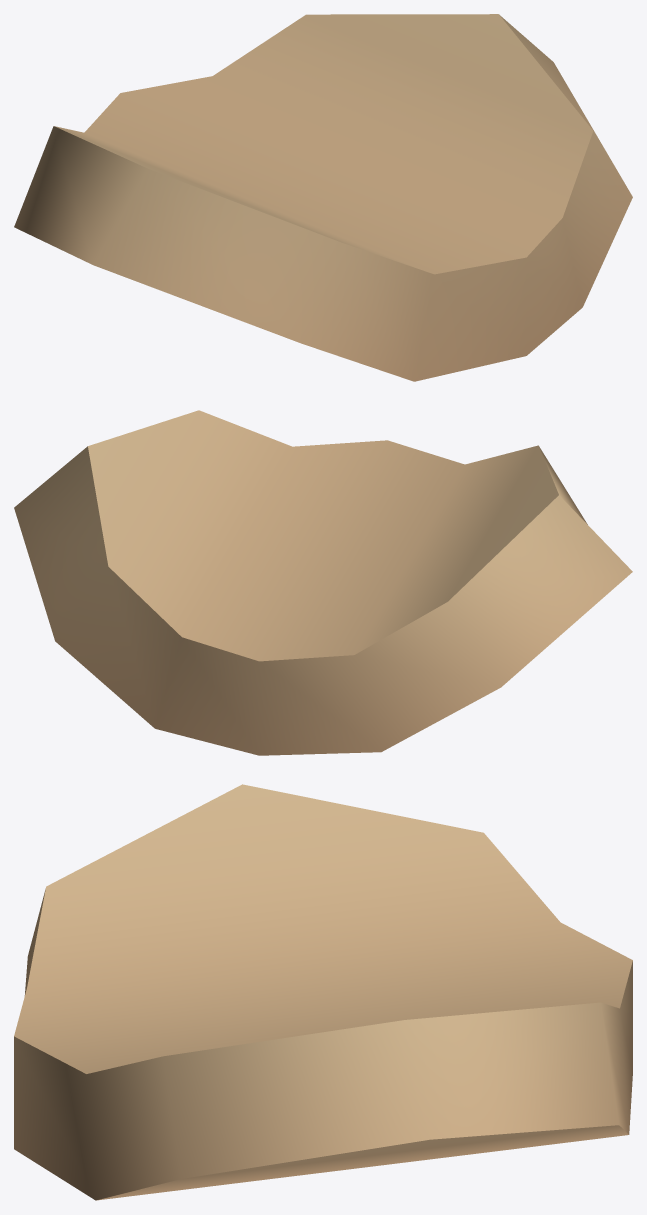
The model's file is (%no-merge) 3.glb.
The picture shows the model from 3 angles, top to bottom: view 1: azimuth 30°, elevation 25°; view 2: azimuth 150°, elevation 25°; view 3: azimuth 270°, elevation 25°; orthographic projection. The views are drawn at different scales.
Parts seen in each view (by area): view 1: (%no-merge) 3; view 2: (%no-merge) 3; view 3: (%no-merge) 3.
Part boxes in pixels (x1,y1,x2,y2): (%no-merge) 3: [14, 14, 632, 381]; (%no-merge) 3: [14, 410, 632, 755]; (%no-merge) 3: [14, 784, 632, 1200].
Size of the model in its own units: 0.092 by 0.029 by 0.0778.
